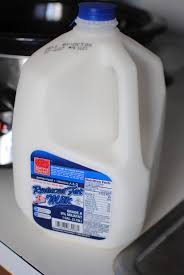milk: (18, 6, 159, 248)
